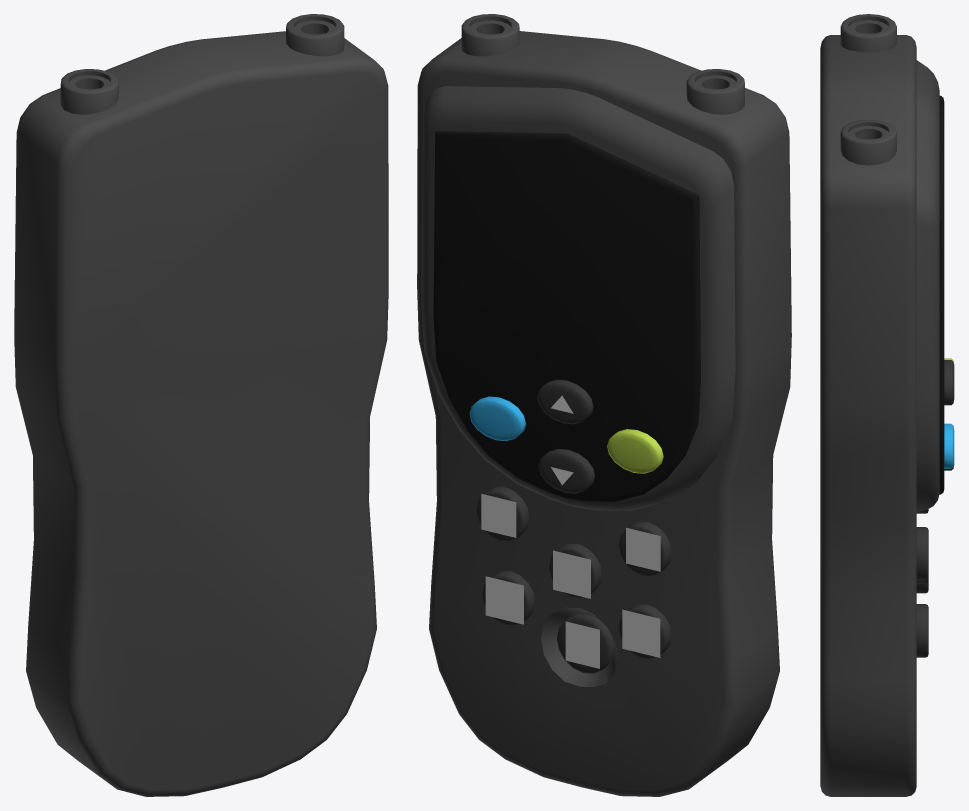
The model's file is MULTIPARAMETRO_2.fbx.
The picture shows the model from 3 angles, left to right: view 1: azimuth 30°, elevation 25°; view 2: azimuth 150°, elevation 25°; view 3: azimuth 270°, elevation 25°; orthographic projection. The views are drawn at different scales.
Parts seen in each view (by area): view 1: cuerpo, conectorIzquierdo, conectorDerecho; view 2: cuerpo, pantalla, bordePantalla, conectorIzquierdo, conectorDerecho, boton1, boton3, boton2, boton4, letras2.003, letras2.004, letras2.002 (+9 smaller); view 3: cuerpo, bordePantalla, pantalla, conectorDerecho, conectorIzquierdo, botonMedición, botonUsuario, boton2, boton1.
Boxes of the visible parts, left/top/right/bottom form: cuerpo: left=14, top=31, right=388, bottom=796; conectorIzquierdo: left=60, top=69, right=118, bottom=114; conectorDerecho: left=286, top=14, right=344, bottom=56; cuerpo: left=417, top=31, right=791, bottom=796; pantalla: left=433, top=131, right=700, bottom=502; bordePantalla: left=421, top=86, right=735, bottom=511; conectorIzquierdo: left=686, top=69, right=744, bottom=114; conectorDerecho: left=461, top=14, right=519, bottom=56; boton1: left=469, top=396, right=525, bottom=440; boton3: left=607, top=429, right=663, bottom=473; boton2: left=537, top=379, right=593, bottom=424; boton4: left=538, top=449, right=594, bottom=493; letras2.003: left=485, top=576, right=523, bottom=624; letras2.004: left=622, top=609, right=660, bottom=657; letras2.002: left=553, top=550, right=590, bottom=598; cuerpo: left=820, top=35, right=916, bottom=796; bordePantalla: left=916, top=60, right=939, bottom=512; pantalla: left=939, top=95, right=944, bottom=494; conectorDerecho: left=840, top=119, right=896, bottom=165; conectorIzquierdo: left=840, top=14, right=896, bottom=52; botonMedición: left=916, top=527, right=928, bottom=580; botonUsuario: left=916, top=604, right=928, bottom=657; boton2: left=944, top=360, right=954, bottom=405; boton1: left=944, top=423, right=954, bottom=468.
Size of the model in its own units: 214 by 441 by 77.49.
